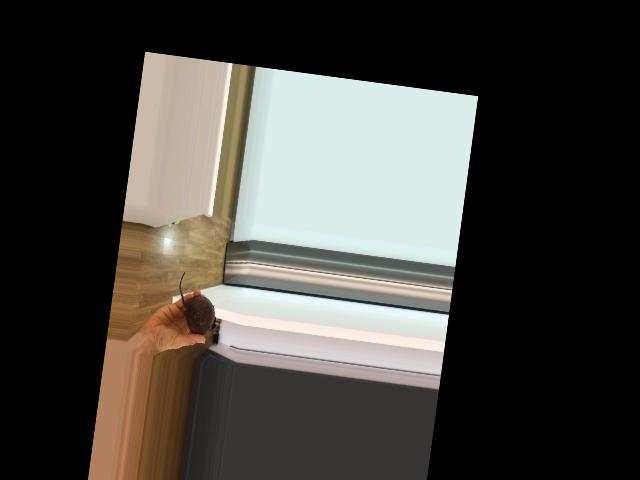beet: (173, 271, 221, 336)
